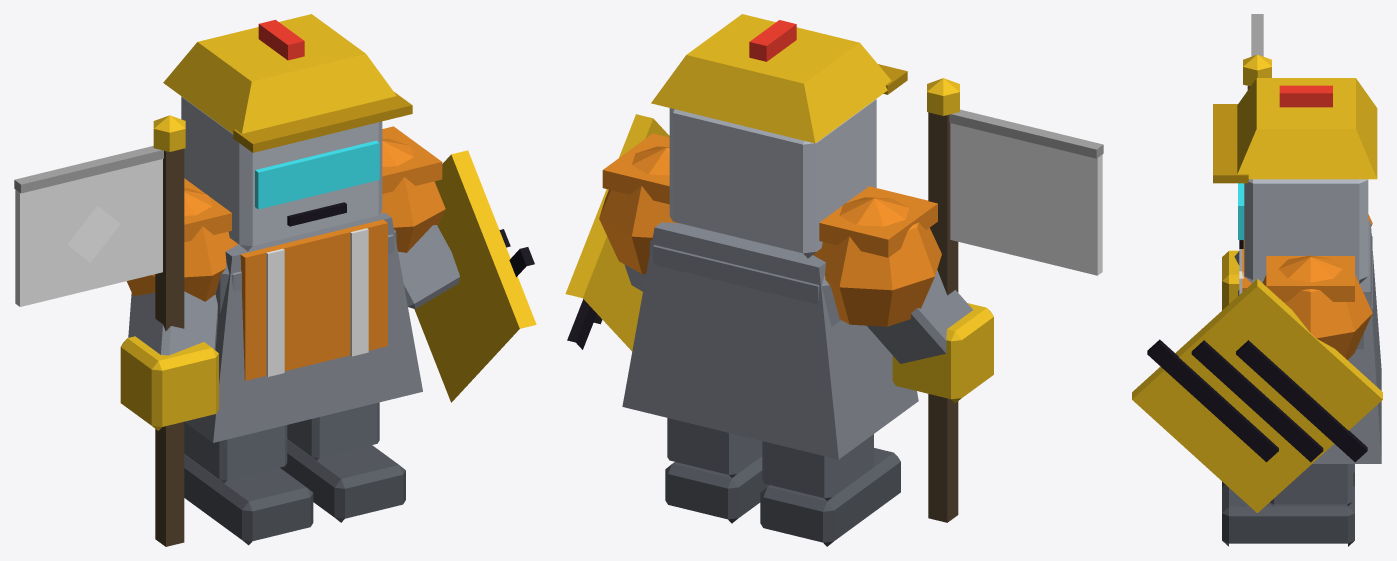
The model's file is r7_mini_foreman_commander.glb.
The picture shows the model from 3 angles, left to right: view 1: azimuth 30°, elevation 25°; view 2: azimuth 150°, elevation 25°; view 3: azimuth 270°, elevation 25°; orthographic projection. The views are drawn at different scales.
Parts seen in each view (by area): view 1: r7_mini_foreman_commander_mesh; view 2: r7_mini_foreman_commander_mesh; view 3: r7_mini_foreman_commander_mesh.
Boxes of the visible parts, bbox=[...] form: r7_mini_foreman_commander_mesh: bbox=[14, 14, 536, 546]; r7_mini_foreman_commander_mesh: bbox=[565, 14, 1103, 546]; r7_mini_foreman_commander_mesh: bbox=[1132, 14, 1382, 546].
Size of the model in its own units: 4.74 by 4.6 by 2.47.
1 material, 1 textured.
